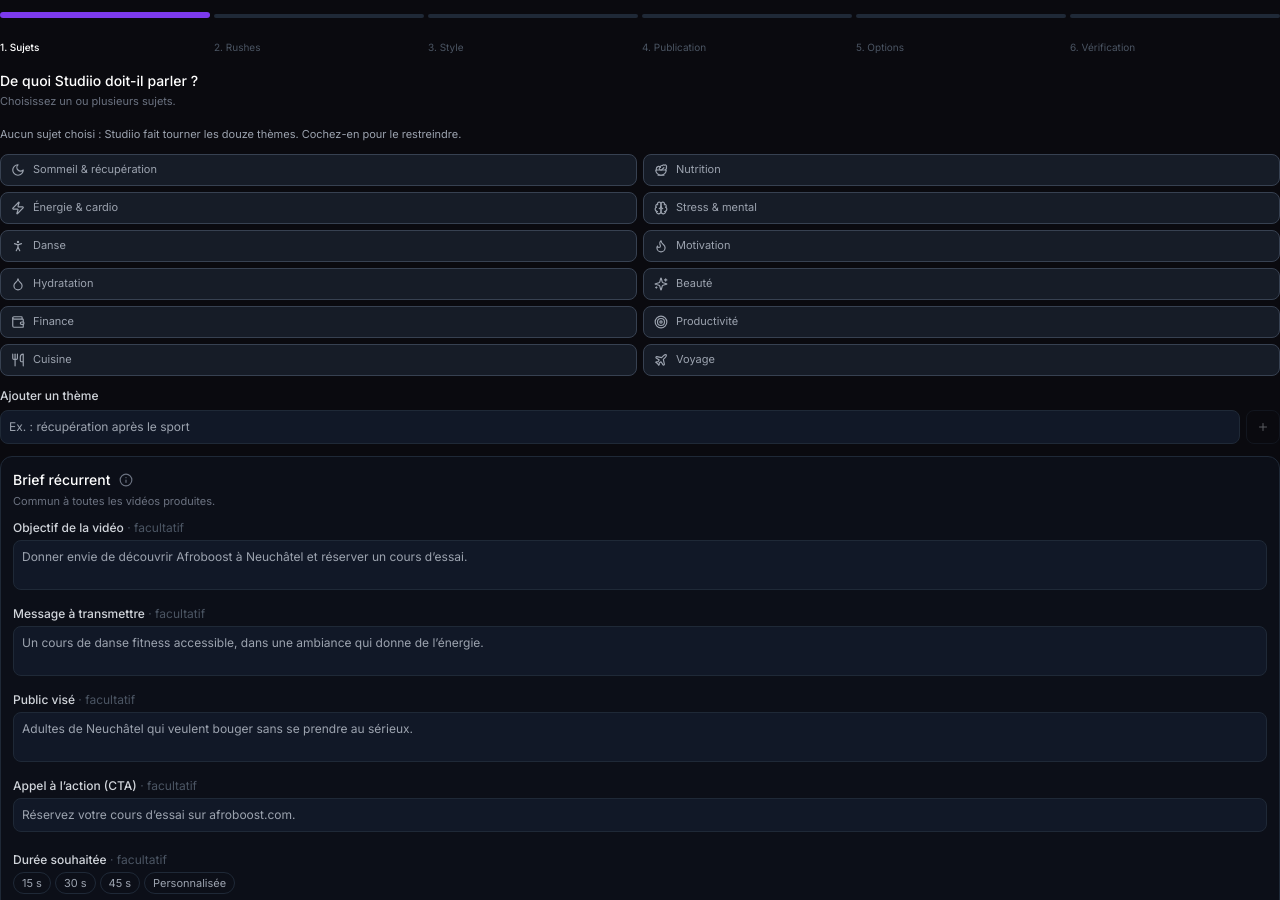
Test: avatar en préparation : jamais « déposé » sans post › rechargement de page pendant la préparation : l’écran la RETROUVE, sans proposer une seconde production
Check: the text "De quoi Studiio doit-il parler ?" is shown, box [0, 72, 198, 89]
Click the button named "Publication": (747, 16) [642, 14, 852, 18]
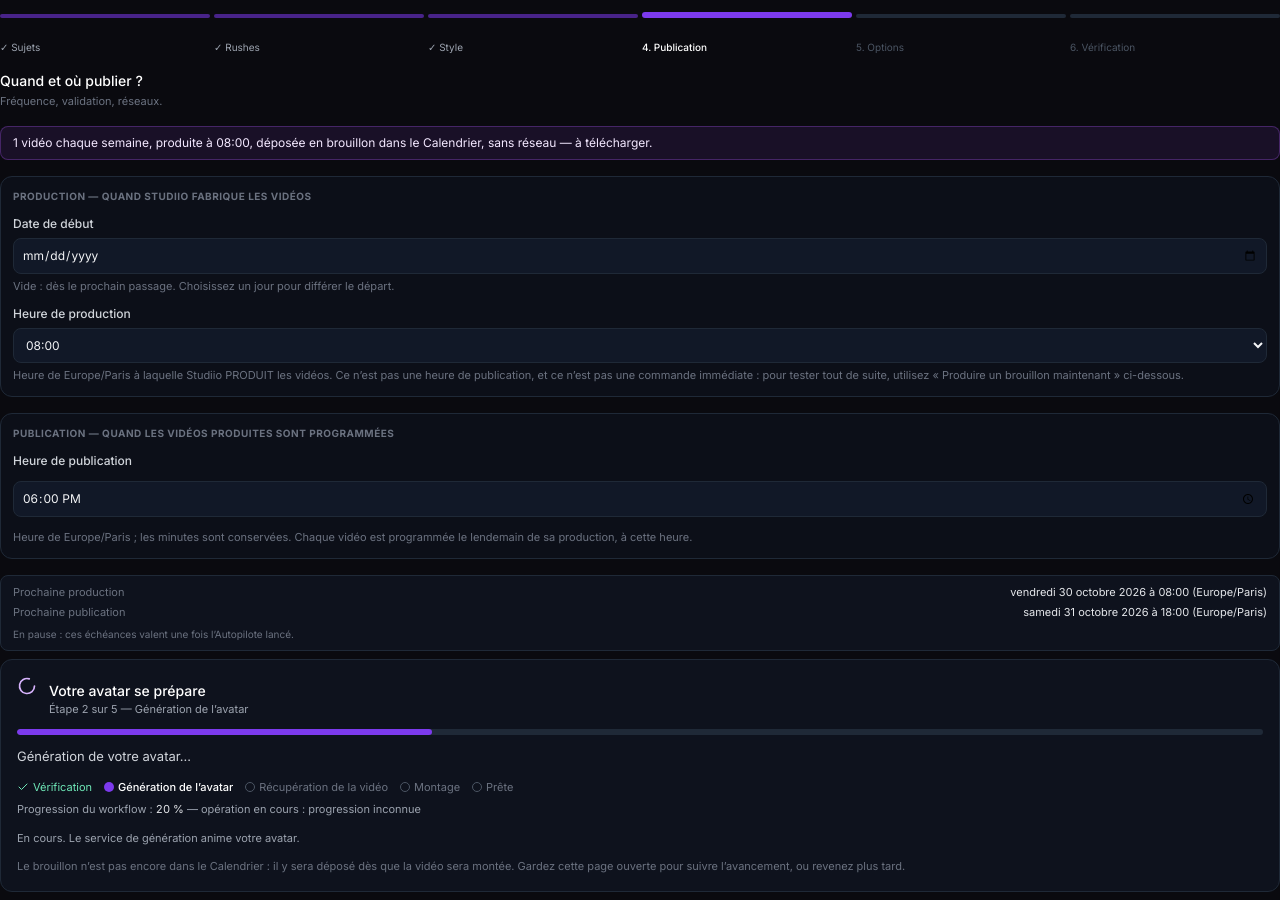
Check: the element that starts with "Votre avatar se prépare" is shown, box [0, 659, 1279, 892]
